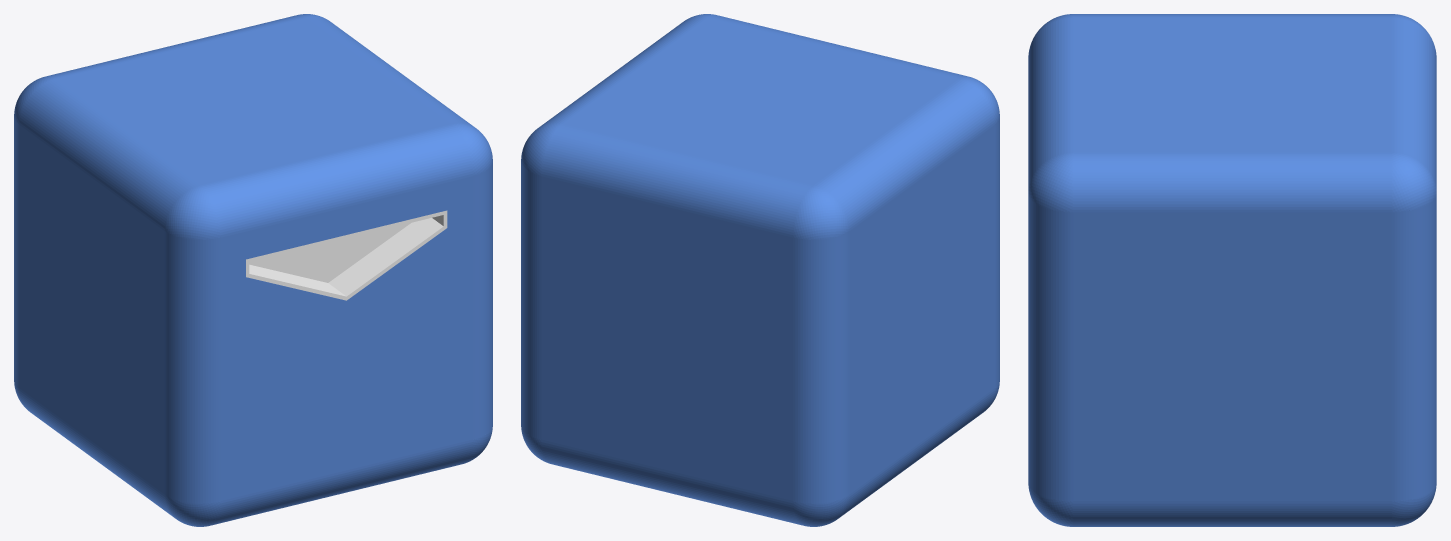
The picture shows the model from 3 angles, left to right: view 1: azimuth 30°, elevation 25°; view 2: azimuth 150°, elevation 25°; view 3: azimuth 270°, elevation 25°; orthographic projection. The views are drawn at different scales.
Visible parts, largest first — view 1: Beat_Saber_block.1-Mat.1, Beat_Saber_block.1-Mat; view 2: Beat_Saber_block.1-Mat.1; view 3: Beat_Saber_block.1-Mat.1.
Part boxes in pixels (x1,y1,x2,y2): Beat_Saber_block.1-Mat.1: [14, 14, 492, 526]; Beat_Saber_block.1-Mat: [246, 210, 447, 300]; Beat_Saber_block.1-Mat.1: [521, 14, 999, 526]; Beat_Saber_block.1-Mat.1: [1028, 14, 1436, 526].
Bounding box in the file's own units: 10 × 10 × 10.
